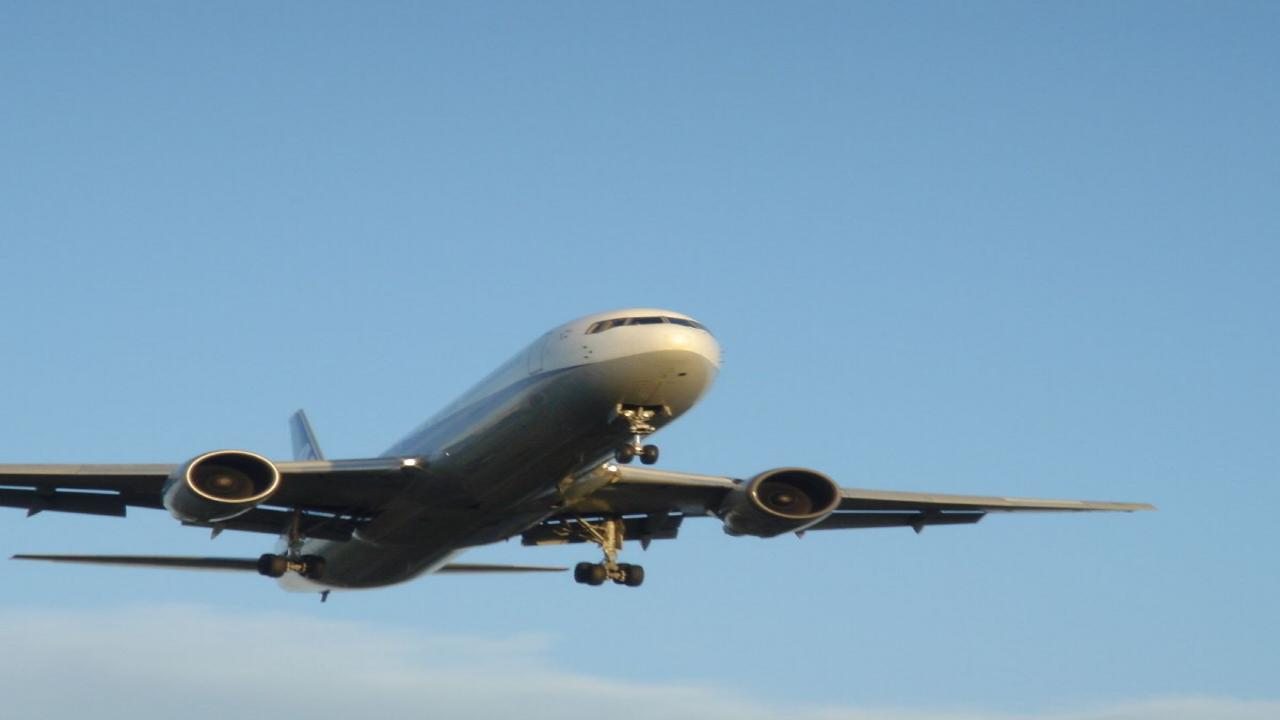Airplane: (0, 284, 1177, 618)
